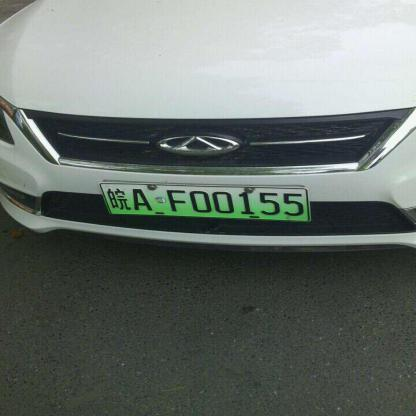lp: (100, 183, 310, 221)
